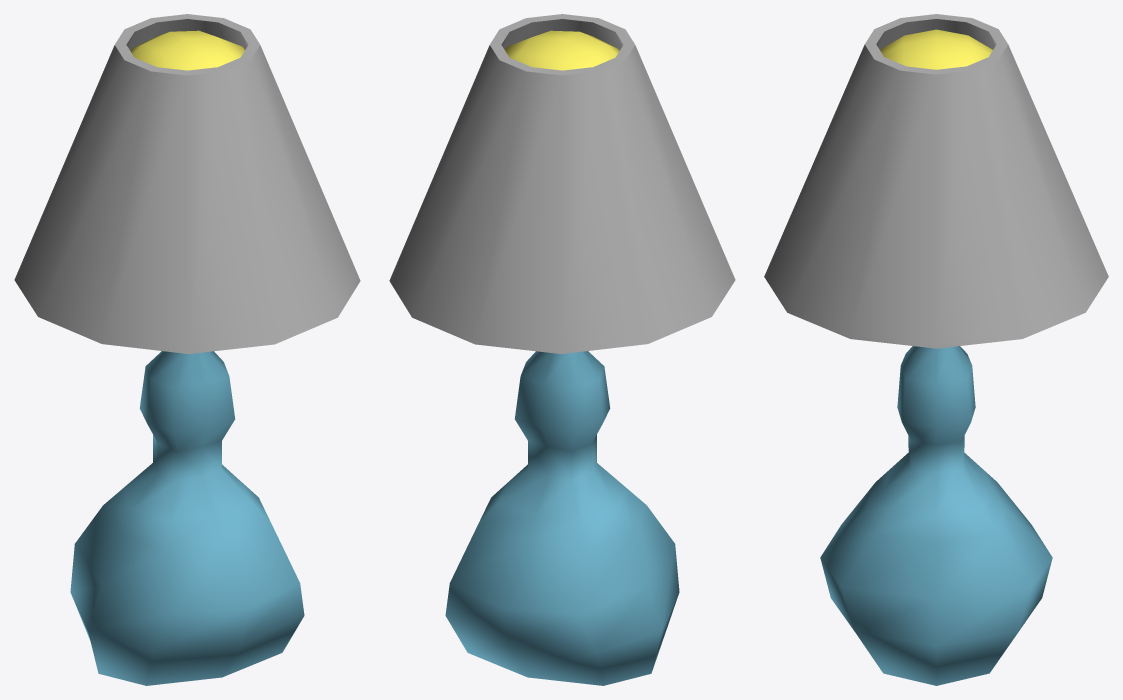
Rendered from bedroom lamp.fbx.
The picture shows the model from 3 angles, left to right: view 1: azimuth 30°, elevation 25°; view 2: azimuth 150°, elevation 25°; view 3: azimuth 270°, elevation 25°; orthographic projection.
Visible parts, largest first — view 1: polySurface477; view 2: polySurface477; view 3: polySurface477.
Part boxes in pixels (x1=…): polySurface477: x1=14, y1=14, x2=360, y2=685; polySurface477: x1=389, y1=14, x2=735, y2=685; polySurface477: x1=764, y1=14, x2=1108, y2=685.
Bounding box in the file's own units: 0.5546 × 1.09 × 0.5618.
Materials: 1 (1 with a texture image).
